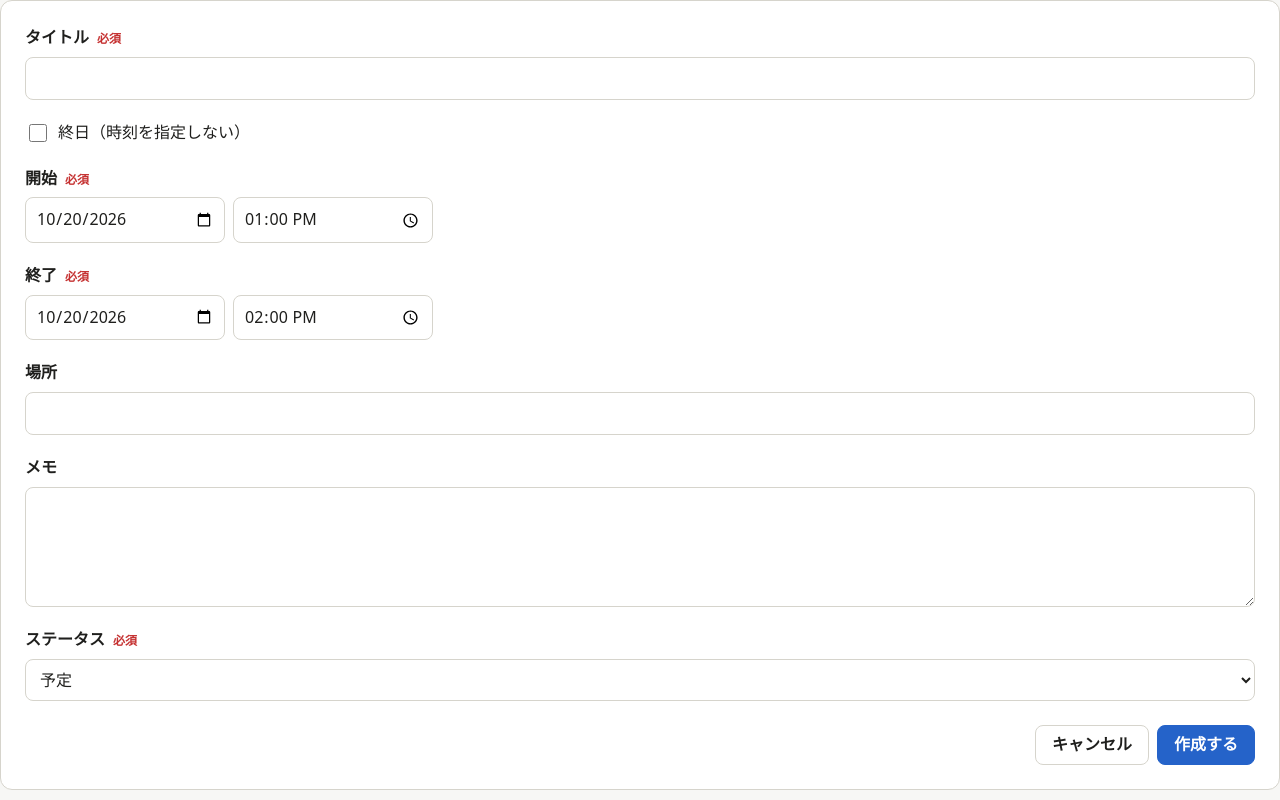
EventForm › 入力していなければキャンセルですぐ戻り、入力していれば確認する
The width and height of the screenshot is (1280, 800).
Click the button "キャンセル": [1092, 745] box [1035,725,1149,765]
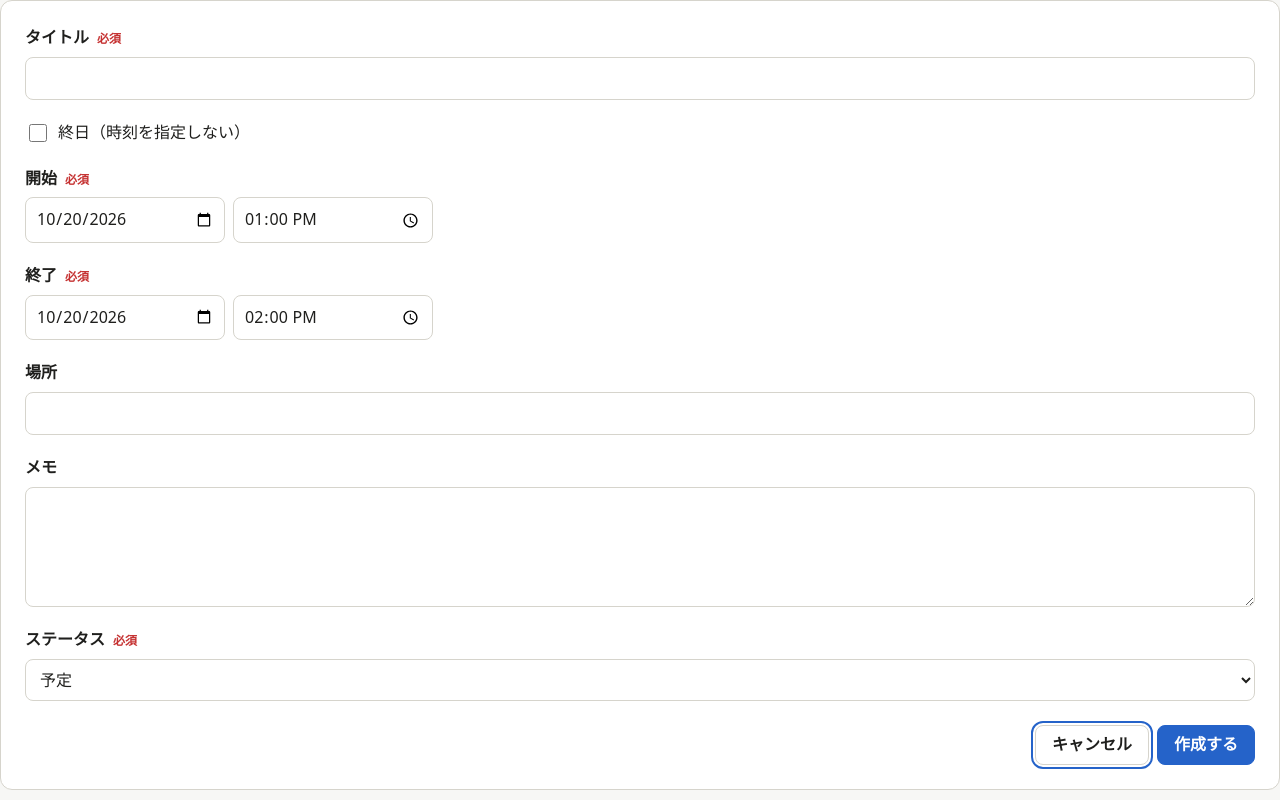
In the field labelled "タイトル": [640, 78] box [25,57,1255,100], type "下書き"
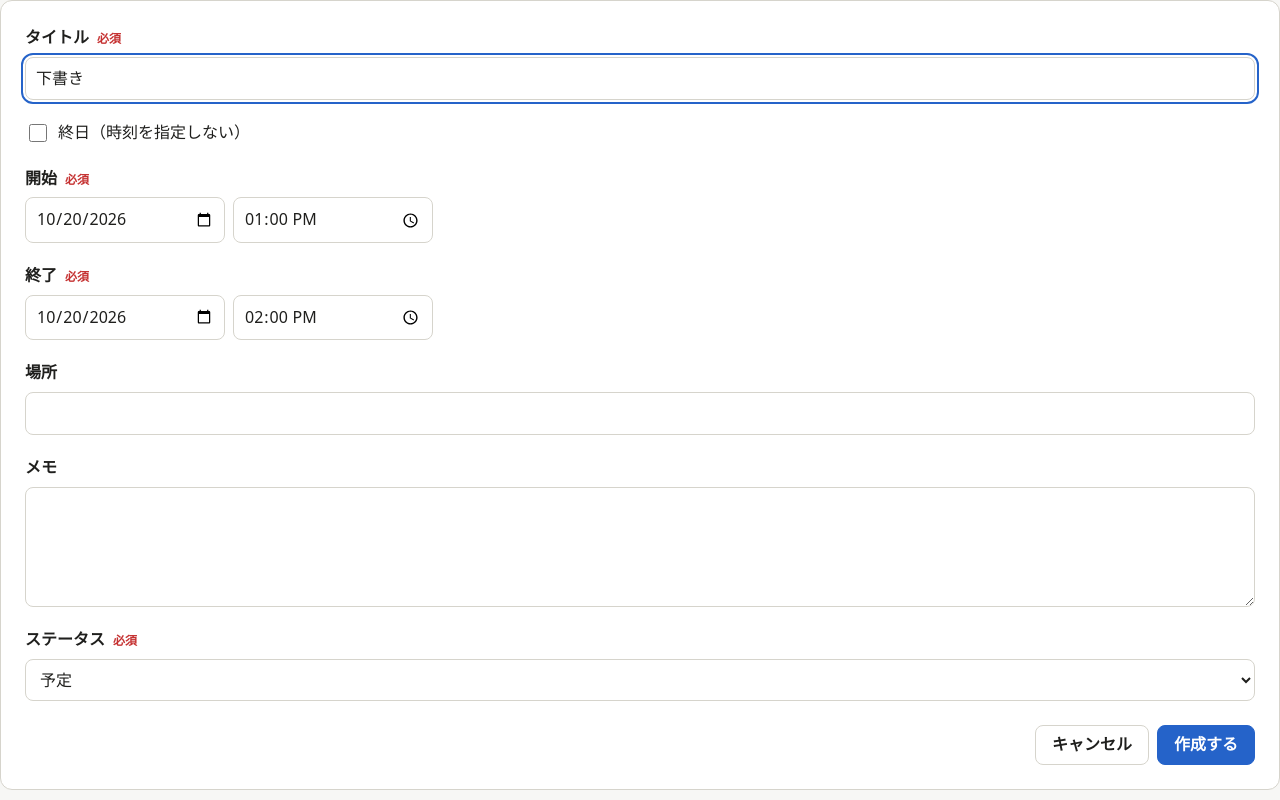
Click the button "キャンセル": [1092, 745] box [1035,725,1149,765]
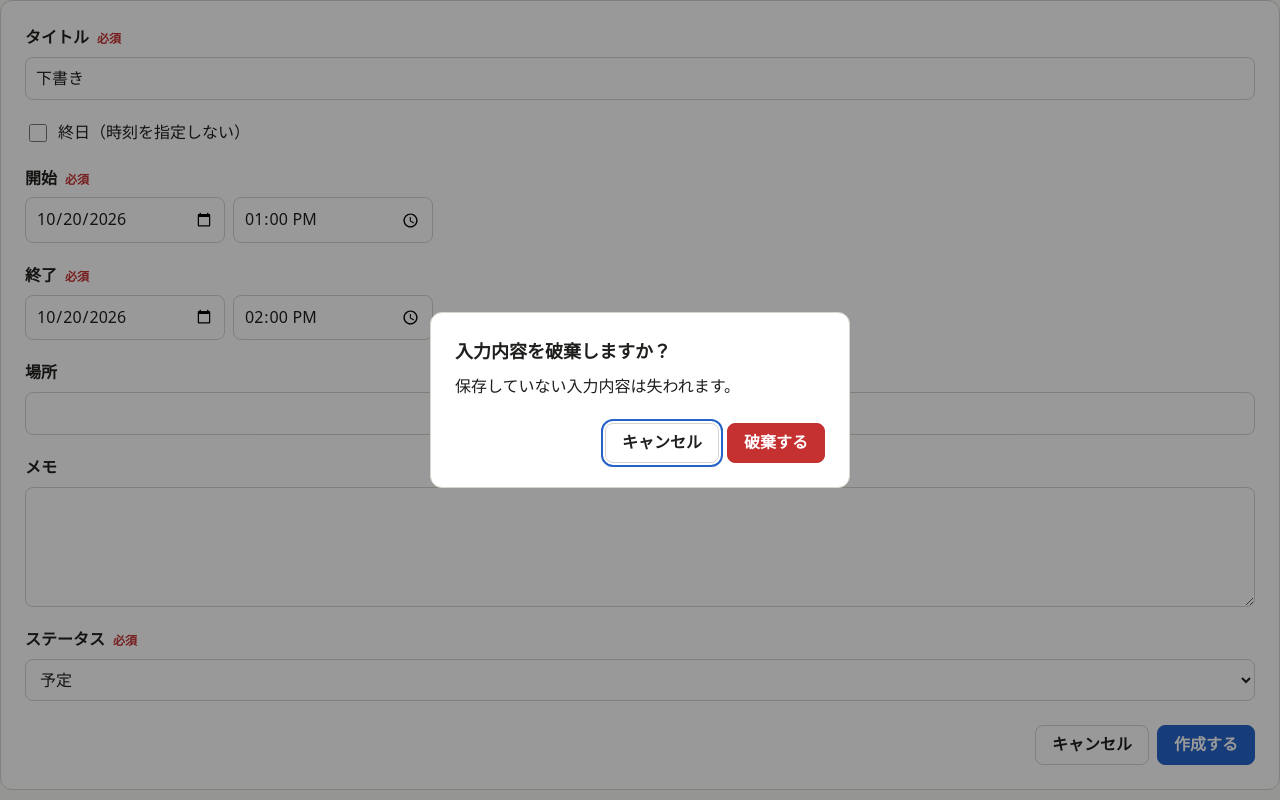
Expected: the dialog "入力内容を破棄しますか？" is shown, [430,312,850,488]
